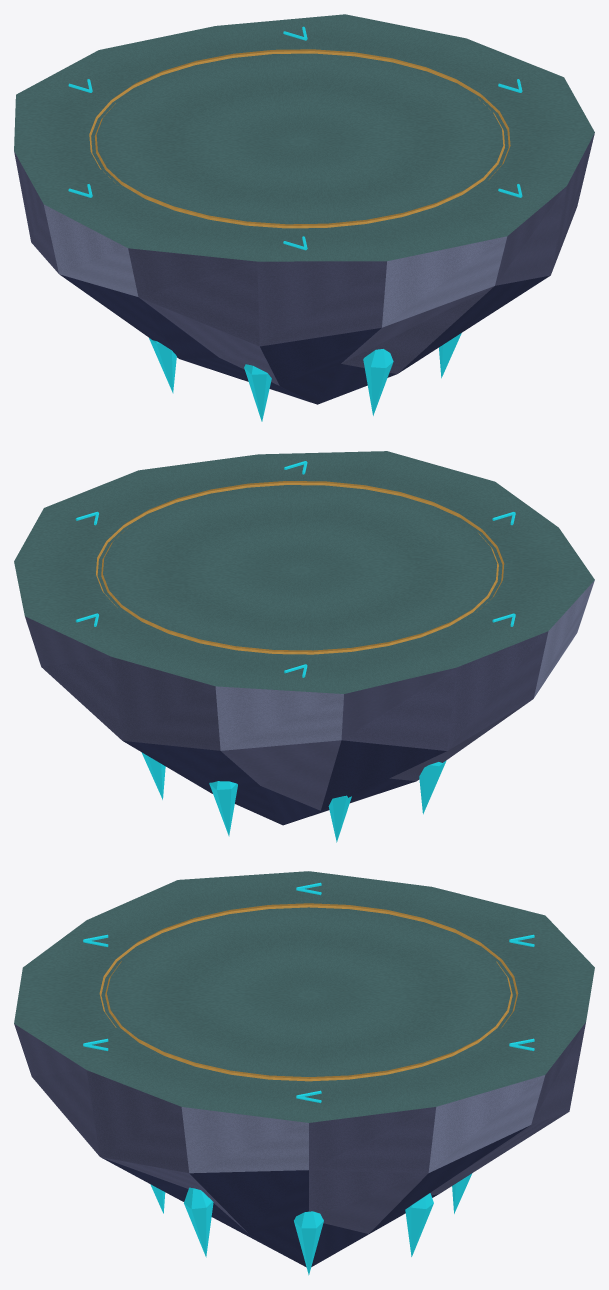
File: platform.glb
3 renders of one model, top to bottom at view 1: azimuth 30°, elevation 25°; view 2: azimuth 150°, elevation 25°; view 3: azimuth 270°, elevation 25°, orthographic. The views are drawn at different scales.
Parts seen in each view (by area): view 1: platform; view 2: platform; view 3: platform.
Part boxes in pixels (bbox=[...]): platform: bbox=[14, 14, 594, 421]; platform: bbox=[14, 451, 594, 842]; platform: bbox=[14, 871, 594, 1275].
Size of the model in its own units: 2.96 by 1.48 by 2.88.
1 material, 1 textured.
